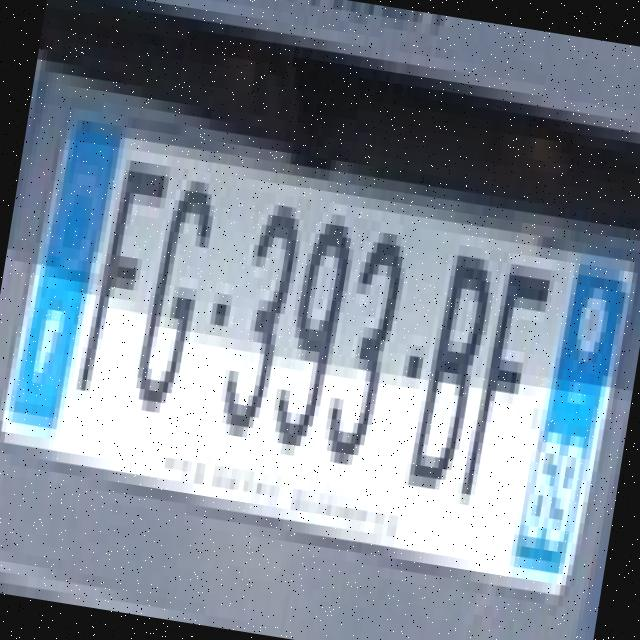EU: (0, 116, 640, 595)
France: (5, 125, 121, 433)
